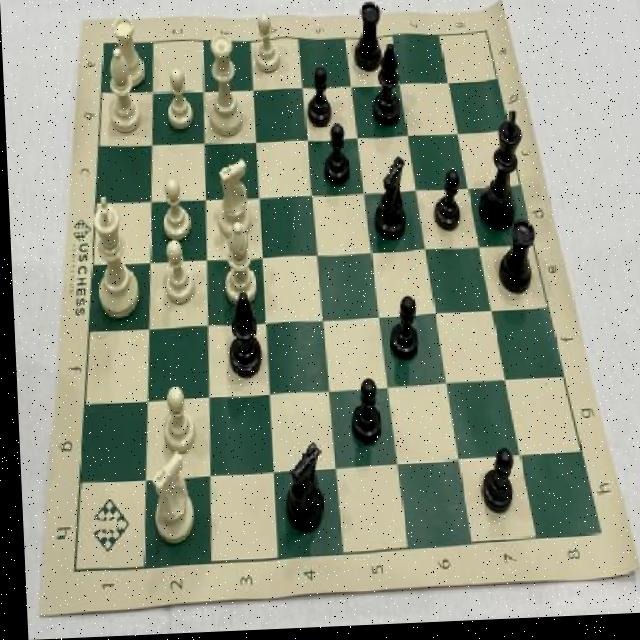bishop: (223, 292, 261, 384), (370, 43, 406, 138)
black-bishop: (471, 106, 527, 235)
black-king: (277, 439, 324, 539), (369, 155, 409, 247)
black-knight: (472, 447, 513, 523), (383, 293, 419, 369), (346, 378, 381, 452), (429, 167, 462, 238), (320, 123, 350, 192), (303, 67, 333, 133)
black-queen: (492, 220, 540, 305), (350, 0, 386, 79)
black-rook: (100, 47, 145, 137), (221, 221, 256, 306)
white-bishop: (85, 194, 140, 323)
white-king: (144, 448, 193, 550), (212, 157, 254, 245)
white-knight: (156, 240, 197, 310), (157, 385, 195, 458), (157, 175, 193, 246), (162, 63, 195, 137), (250, 10, 282, 80)
white-pawn: (203, 28, 248, 141)
white-queen: (108, 13, 150, 96)
